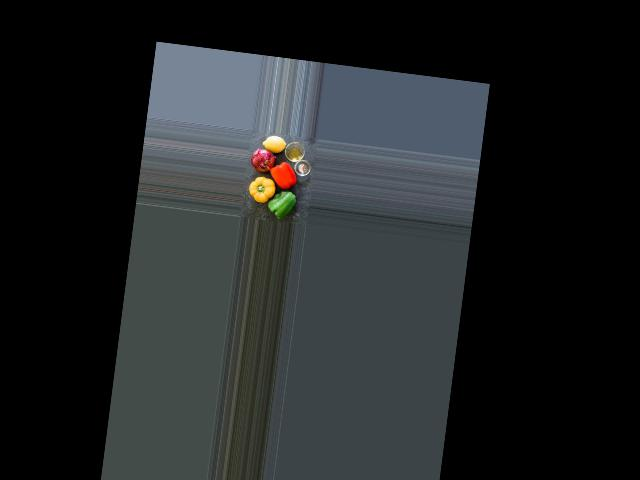bell_pepper: (267, 160, 299, 190)
